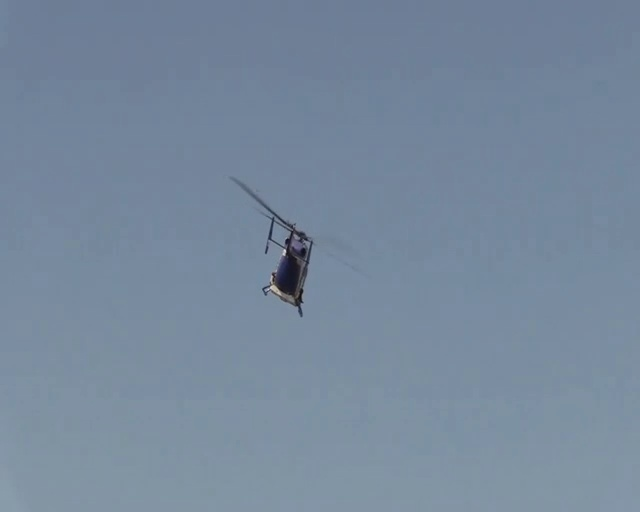HELICOPTER: (225, 175, 369, 318)
